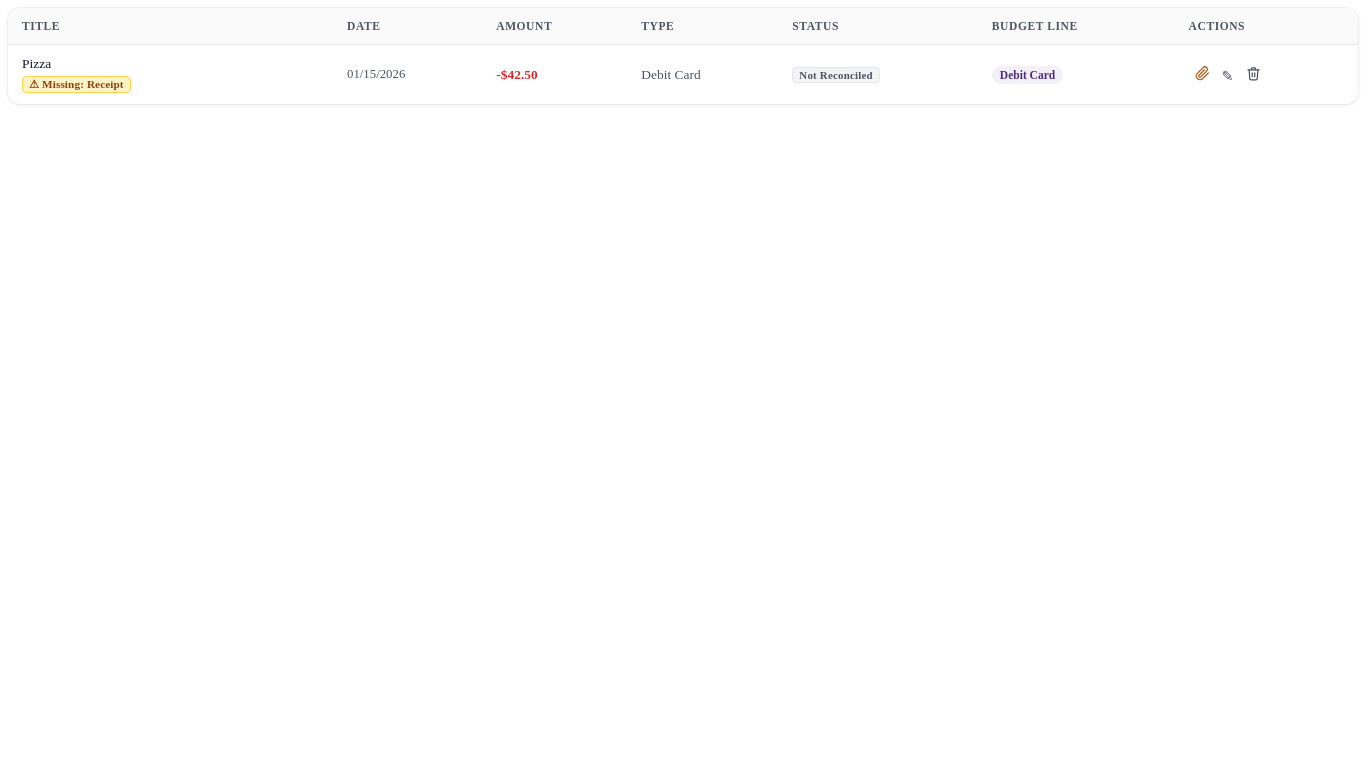
Test case: TransactionList › clicking Cancel on the delete confirmation dismisses it without deleting
Click the button named "Delete transaction" at (1253, 74), box left=1240, top=62, right=1267, bottom=88
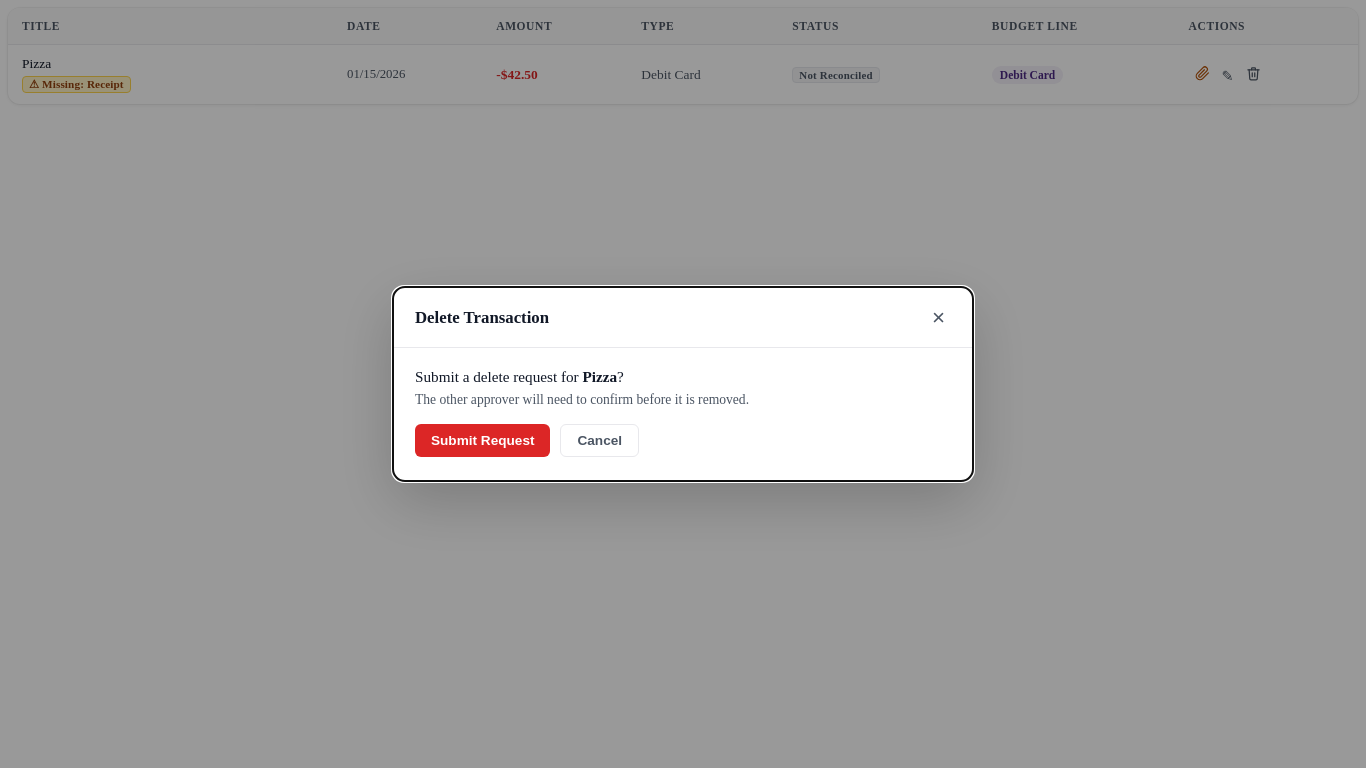
Click the button "Cancel" at (600, 441), box left=560, top=424, right=639, bottom=457
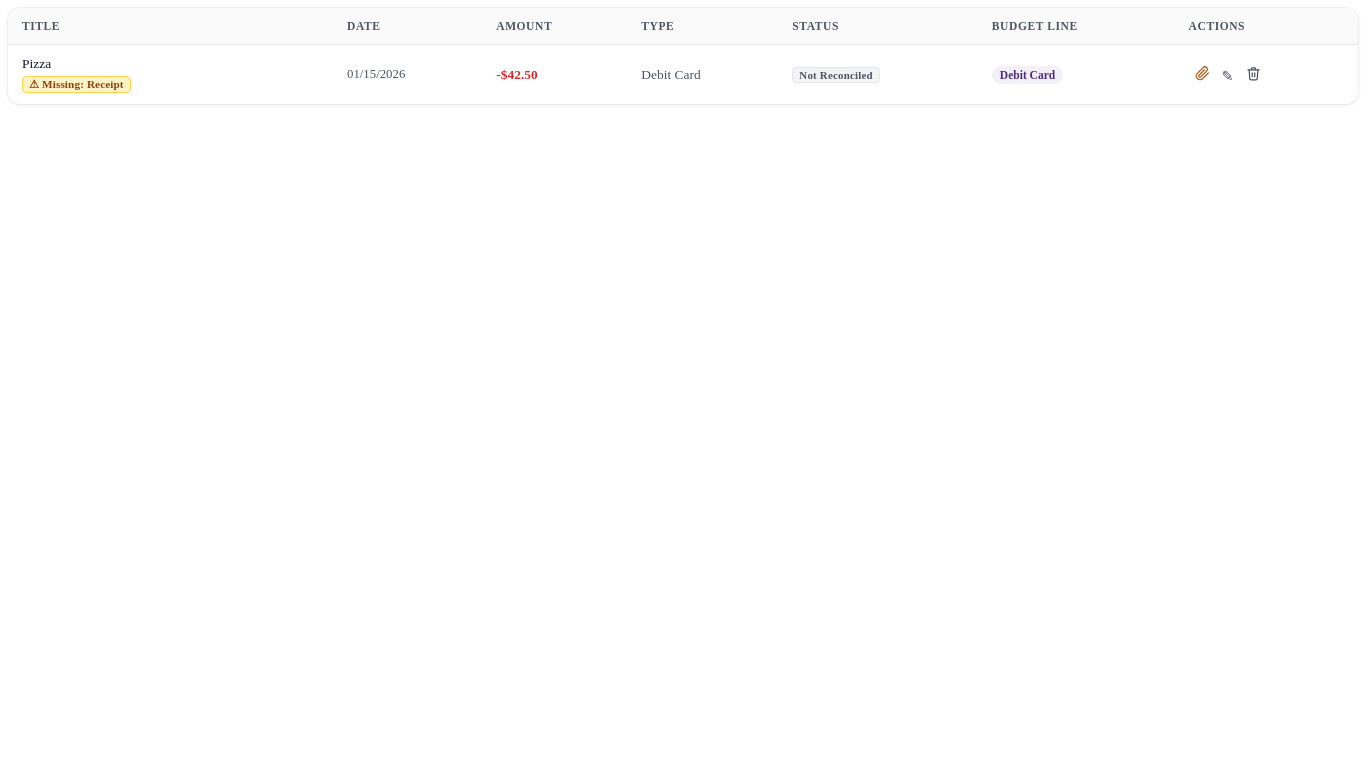
expect the text "Submit a delete request for" is gone: met
